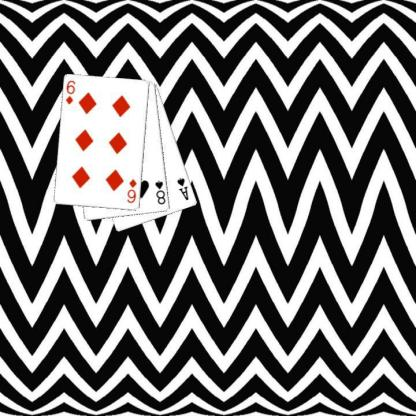6D: (63, 78, 77, 106), (125, 177, 138, 204)
8S: (152, 178, 166, 206)
AS: (175, 176, 190, 202)
